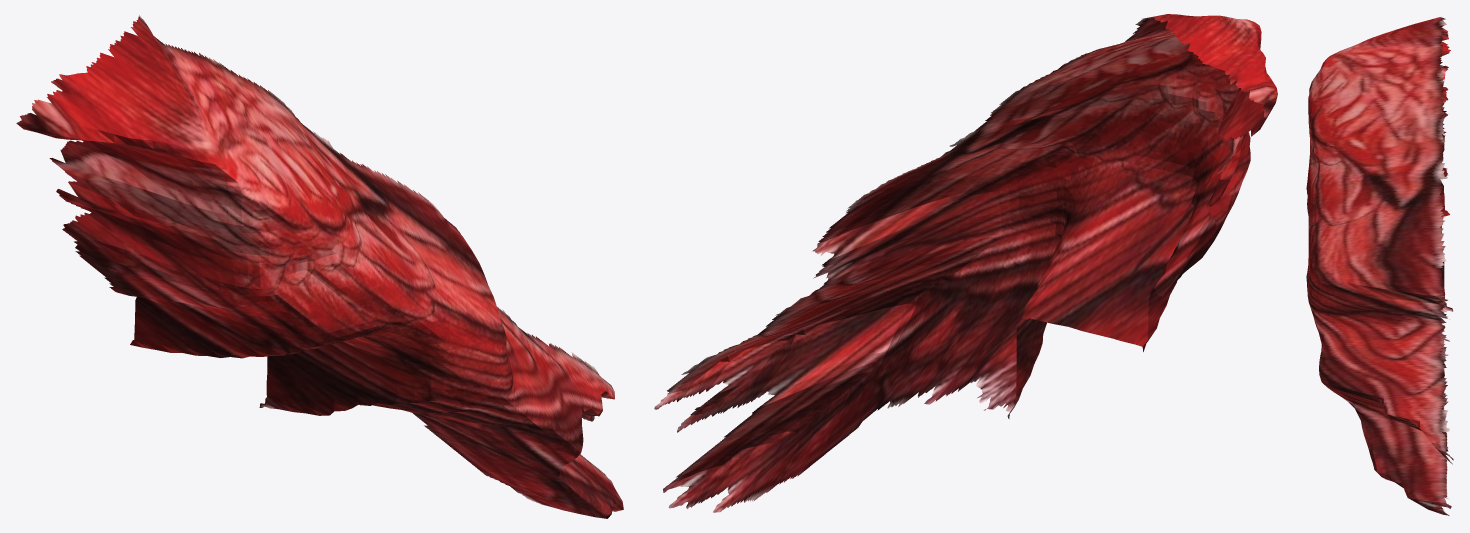
Rendered from comp_wing.obj.
3 renders of one model, left to right at view 1: azimuth 30°, elevation 25°; view 2: azimuth 150°, elevation 25°; view 3: azimuth 270°, elevation 25°, orthographic. The views are drawn at different scales.
Parts seen in each view (by area): view 1: comp_wing; view 2: comp_wing; view 3: comp_wing.
Part boxes in pixels (x1=…): comp_wing: x1=16, y1=15, x2=623, y2=518; comp_wing: x1=654, y1=14, x2=1277, y2=512; comp_wing: x1=1306, y1=17, x2=1453, y2=515.
Bounding box in the file's own units: 1.19 × 1.14 × 0.4269.
1 material, 1 textured.
